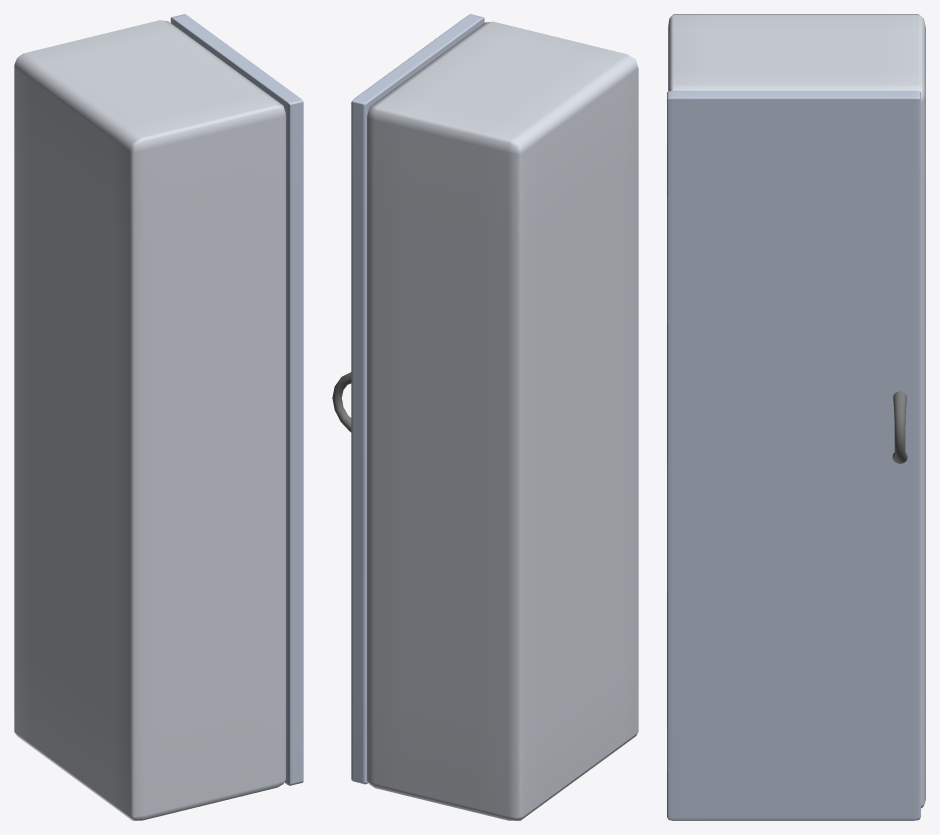
File: schrank_eintürig.fbx
3 views of the same model, side by side, from view 1: azimuth 30°, elevation 25°; view 2: azimuth 150°, elevation 25°; view 3: azimuth 270°, elevation 25° (orthographic). The views are drawn at different scales.
Visible parts, largest first — view 1: polySurface1; view 2: polySurface1; view 3: polySurface1.
Boxes of the visible parts, x1,y1,x2,y2 form: polySurface1: (14,14,303,820); polySurface1: (332,14,638,820); polySurface1: (667,14,925,820).
Bounding box in the file's own units: 1.83 × 6 × 1.95.
